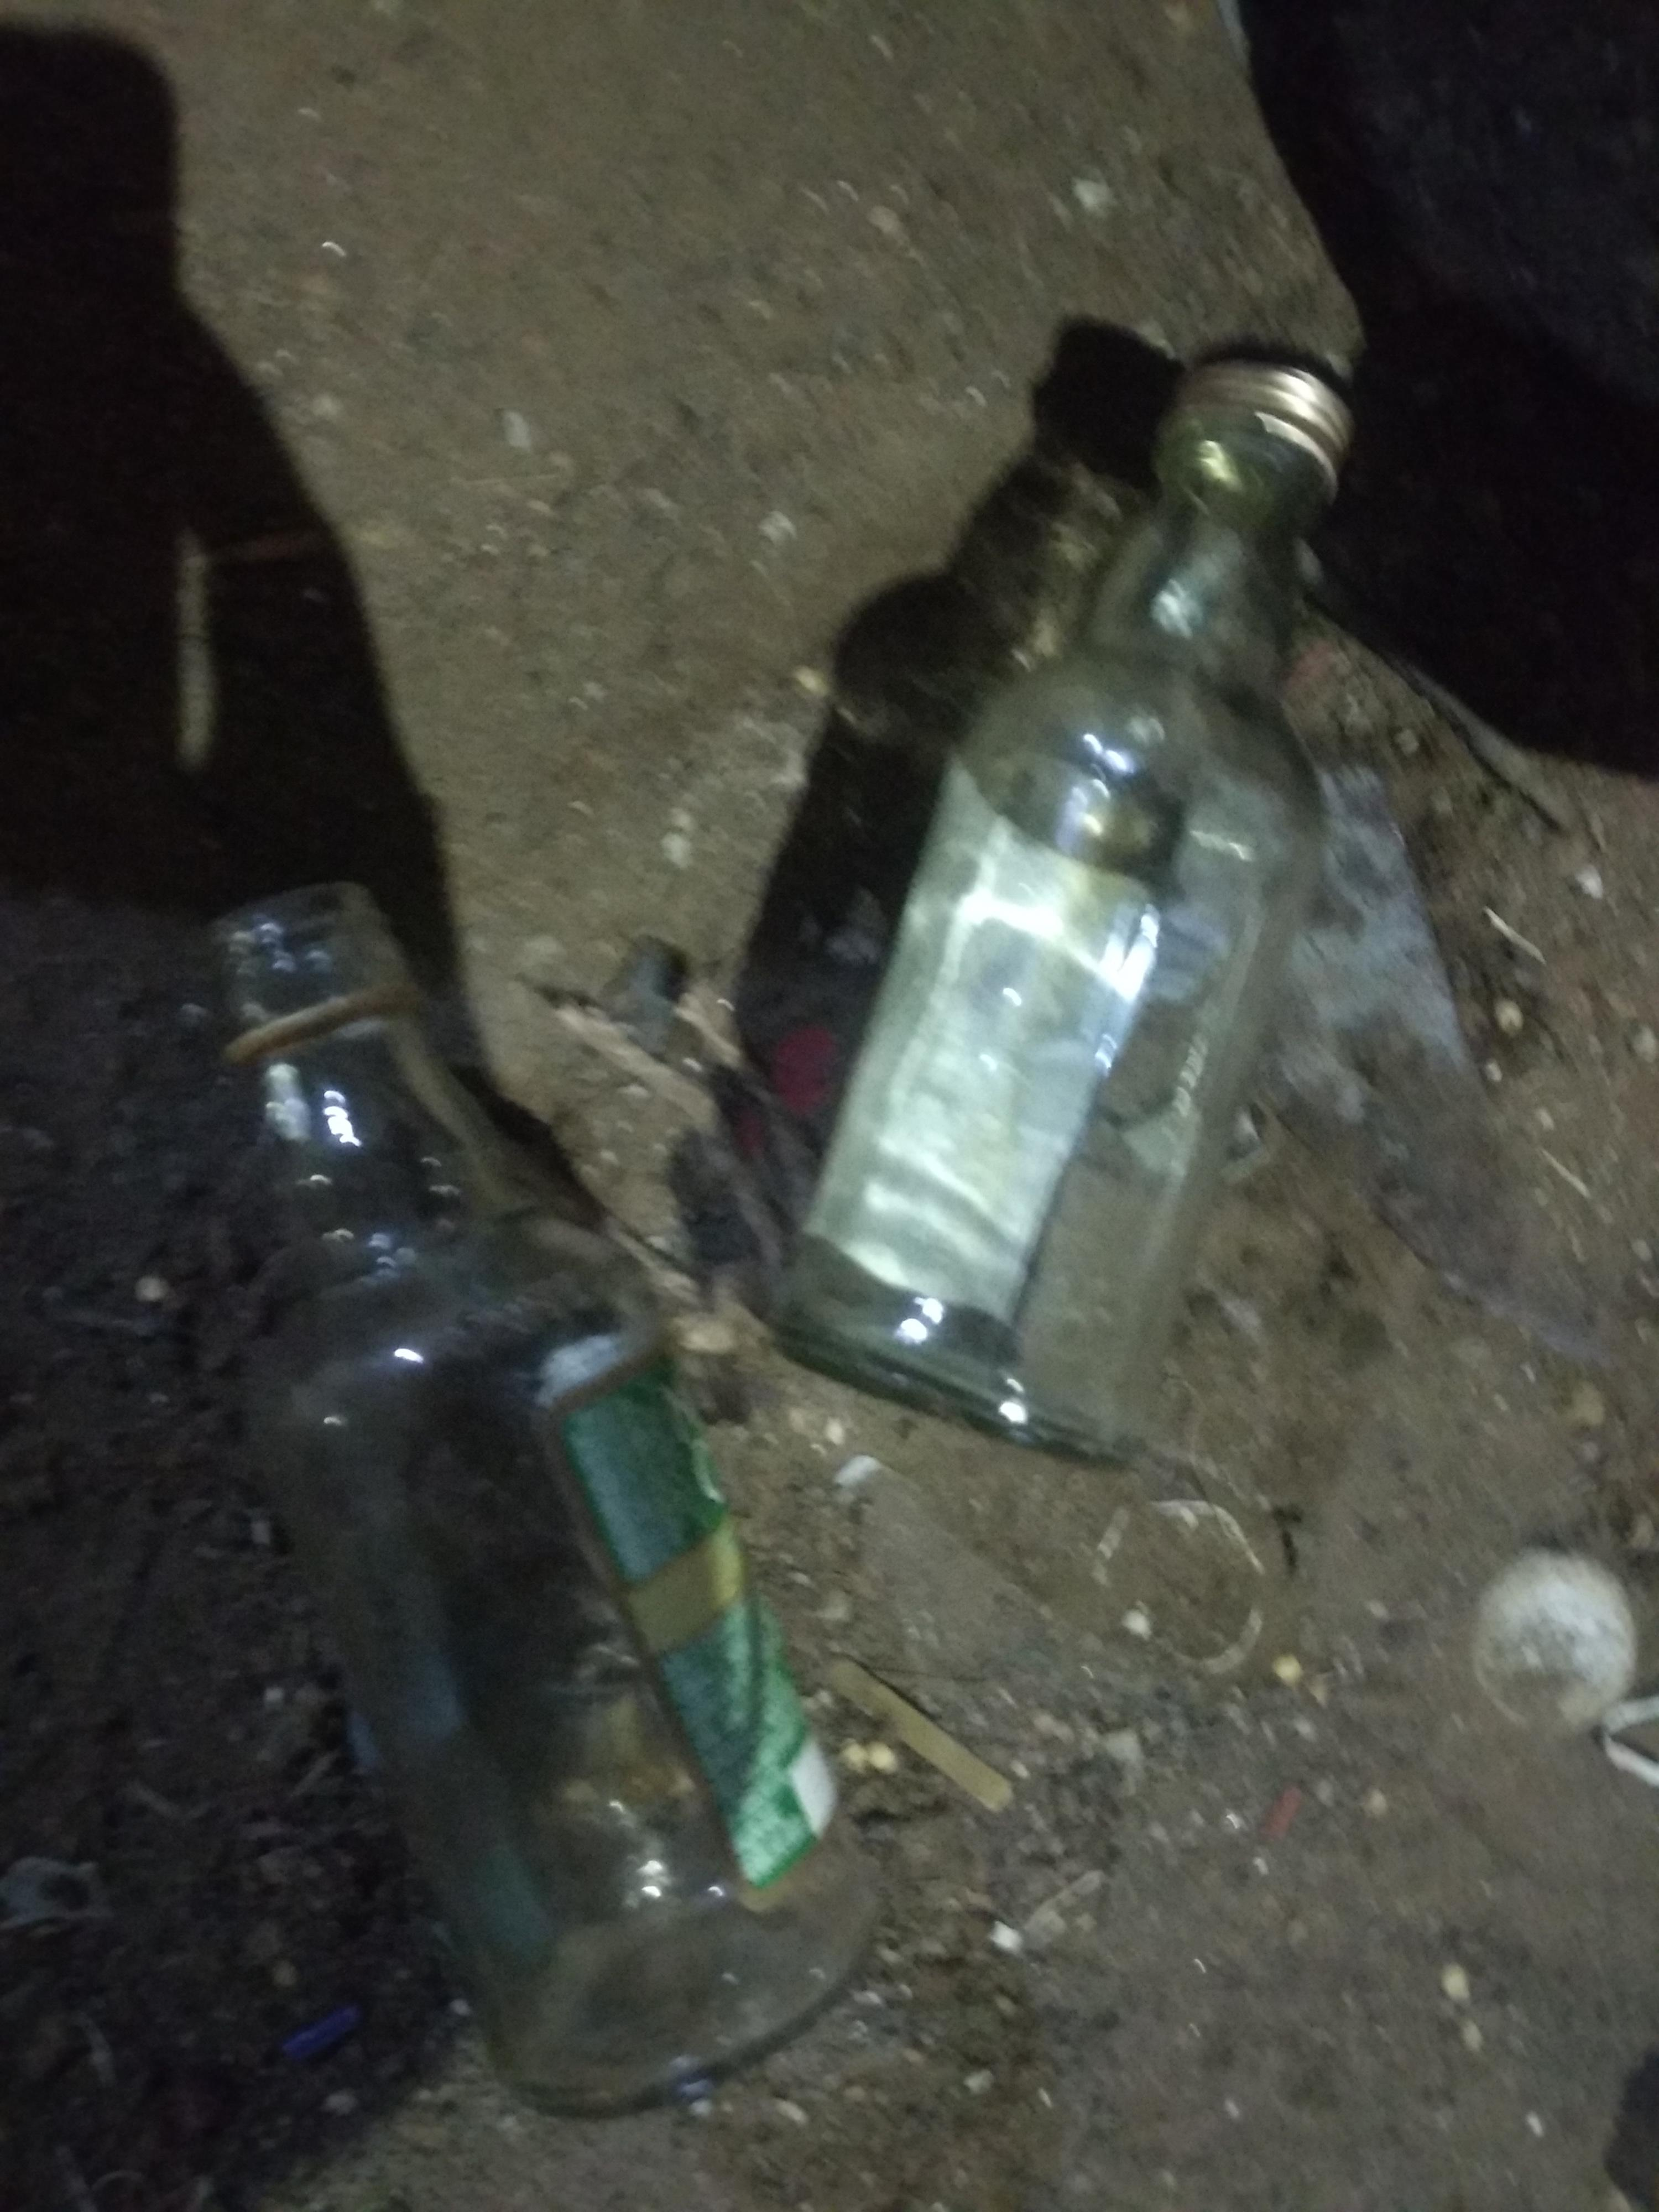organic: (153, 326, 1408, 2141)
